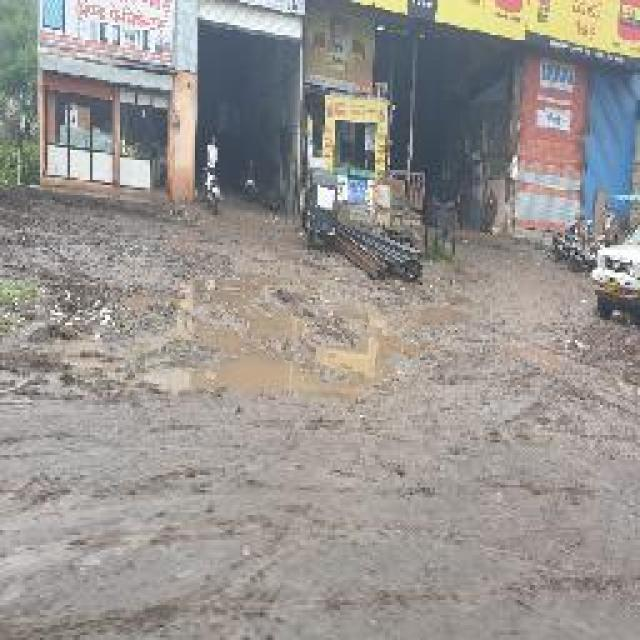puddle: (136, 301, 421, 411)
